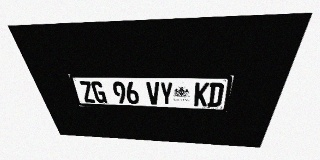6: (124, 82, 140, 104)
9: (112, 81, 128, 104)
D: (207, 83, 225, 107)
G: (90, 81, 107, 103)
K: (194, 82, 210, 106)
V: (146, 82, 160, 105)
Y: (159, 82, 173, 105)
Z: (78, 81, 96, 103)
